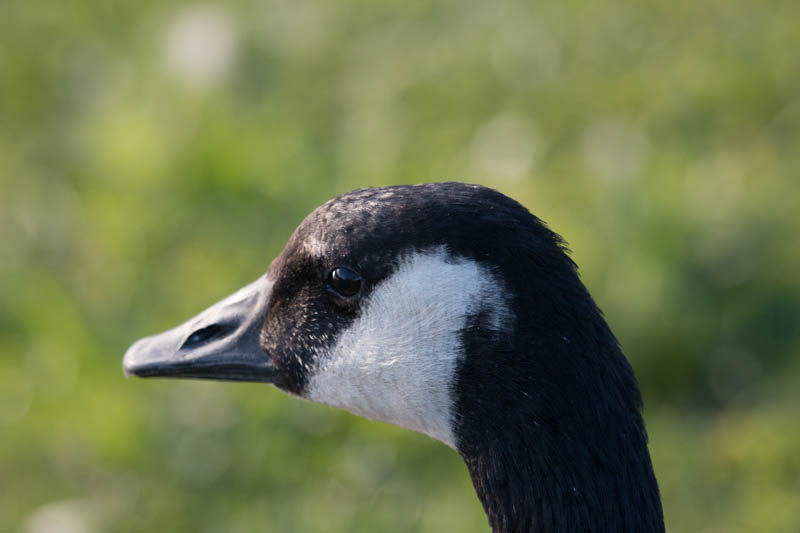goose-head: (120, 183, 648, 452)
